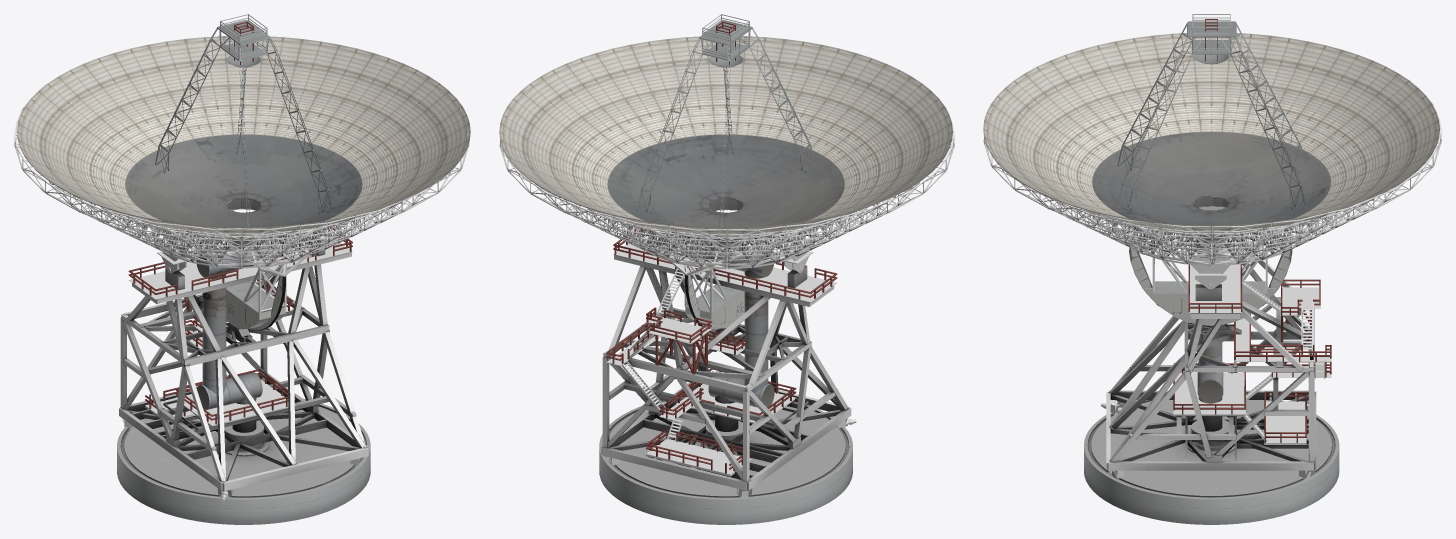
File: dsn34.glb
3 renders of one model, left to right at view 1: azimuth 30°, elevation 25°; view 2: azimuth 150°, elevation 25°; view 3: azimuth 270°, elevation 25°, orthographic.
Visible parts, largest first — view 1: dish, azimuth, truss_dish, base; view 2: dish, azimuth, truss_dish, base; view 3: dish, azimuth, base, truss_dish.
Part boxes in pixels (x1=…): dish: x1=17, y1=36, x2=470, y2=235; azimuth: x1=117, y1=14, x2=370, y2=524; truss_dish: x1=14, y1=83, x2=469, y2=268; base: x1=117, y1=396, x2=370, y2=499; dish: x1=499, y1=36, x2=952, y2=235; azimuth: x1=599, y1=14, x2=856, y2=524; truss_dish: x1=499, y1=41, x2=954, y2=269; base: x1=599, y1=400, x2=852, y2=499; dish: x1=983, y1=33, x2=1439, y2=233; azimuth: x1=1084, y1=14, x2=1339, y2=524; base: x1=1084, y1=400, x2=1339, y2=499; truss_dish: x1=983, y1=60, x2=1441, y2=265.
Size of the model in its own units: 34.02 by 36.79 by 33.97.
6 materials, 5 textured.
